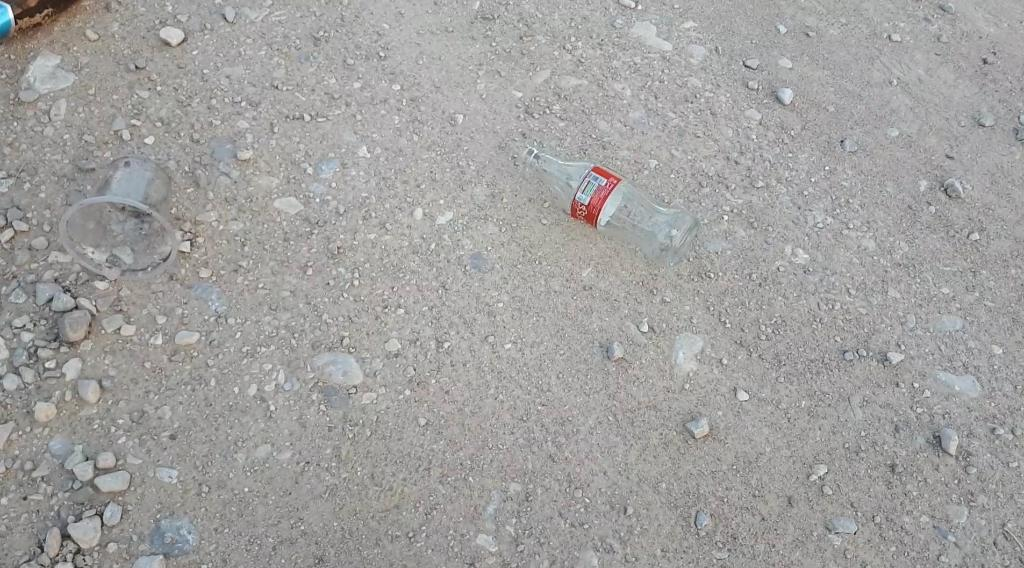garbage: (516, 136, 711, 282), (521, 145, 701, 269), (1, 0, 78, 41)
